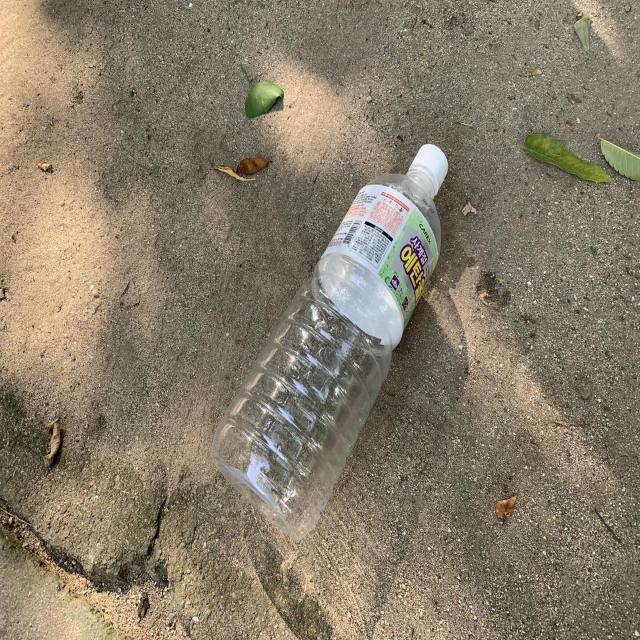plastic: (211, 144, 449, 540)
